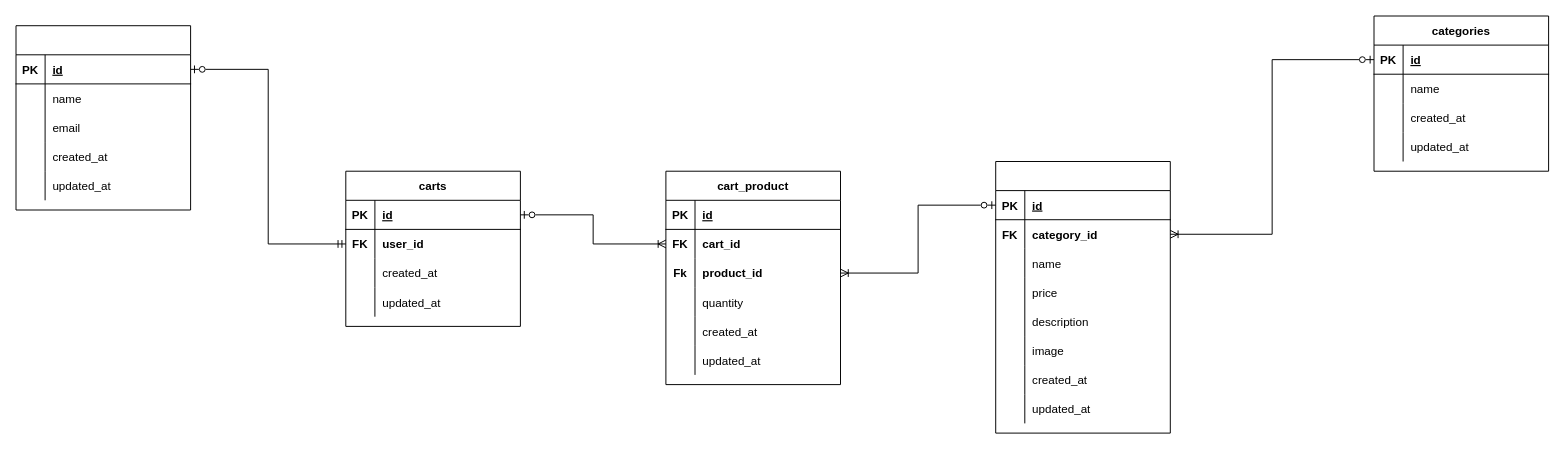
The diagram is 1565 pixels wide and 449 high, and some of its shapes have lost their labels. The box of each missing label's shape, as (x1, y1, x2, y2) in pixels:
products: (995, 161, 1170, 433)
users: (15, 25, 191, 210)
